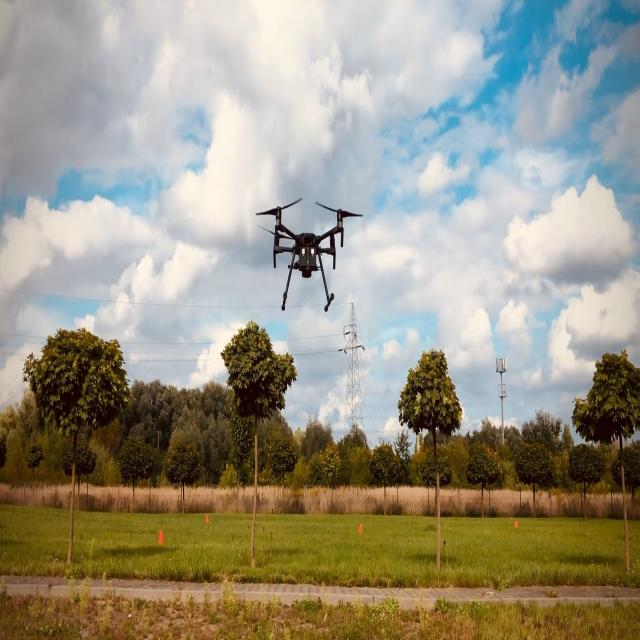drone: (255, 197, 363, 312)
